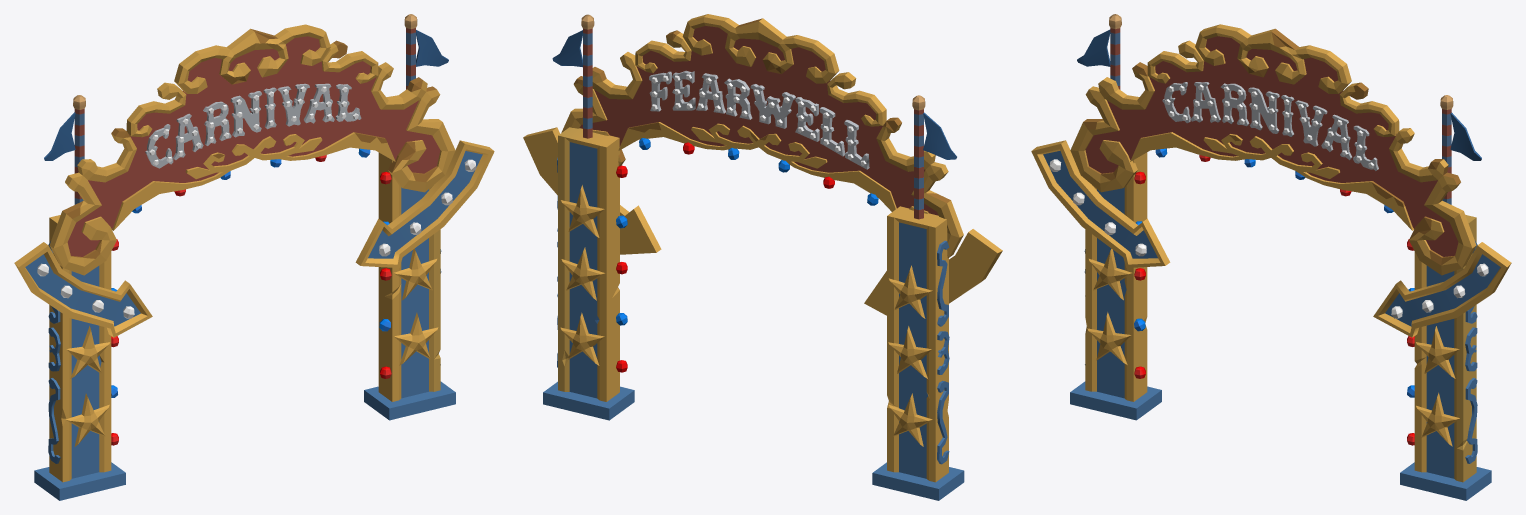
The model's file is SM_Prop_Carnival_Entrance_01.fbx.
The picture shows the model from 3 angles, left to right: view 1: azimuth 30°, elevation 25°; view 2: azimuth 150°, elevation 25°; view 3: azimuth 330°, elevation 25°; orthographic projection.
Visible parts, largest first — view 1: SM_Prop_Carnival_Entrance_01; view 2: SM_Prop_Carnival_Entrance_01; view 3: SM_Prop_Carnival_Entrance_01.
Part boxes in pixels (x1,y1,x2,y2): SM_Prop_Carnival_Entrance_01: [14, 14, 494, 500]; SM_Prop_Carnival_Entrance_01: [523, 14, 1002, 500]; SM_Prop_Carnival_Entrance_01: [1031, 14, 1511, 500].
Bounding box in the file's own units: 573 × 481 × 57.06.
